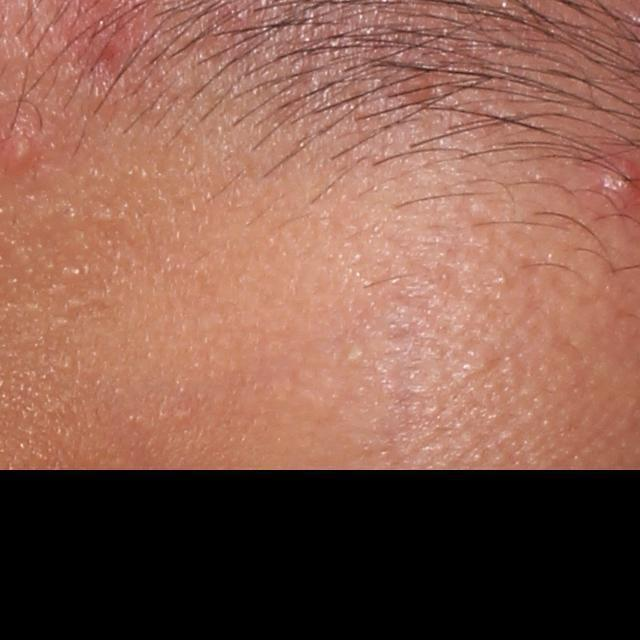pustule: (7, 131, 36, 173)
